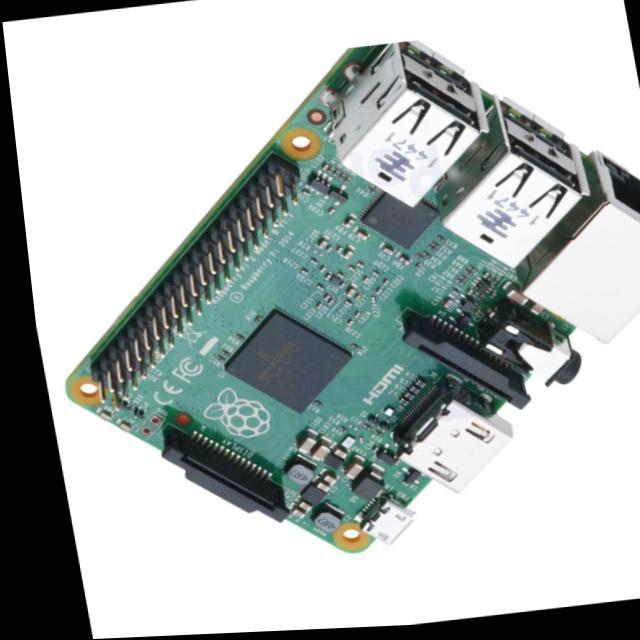Raspberry-Pi-2-B: (67, 42, 640, 552)
